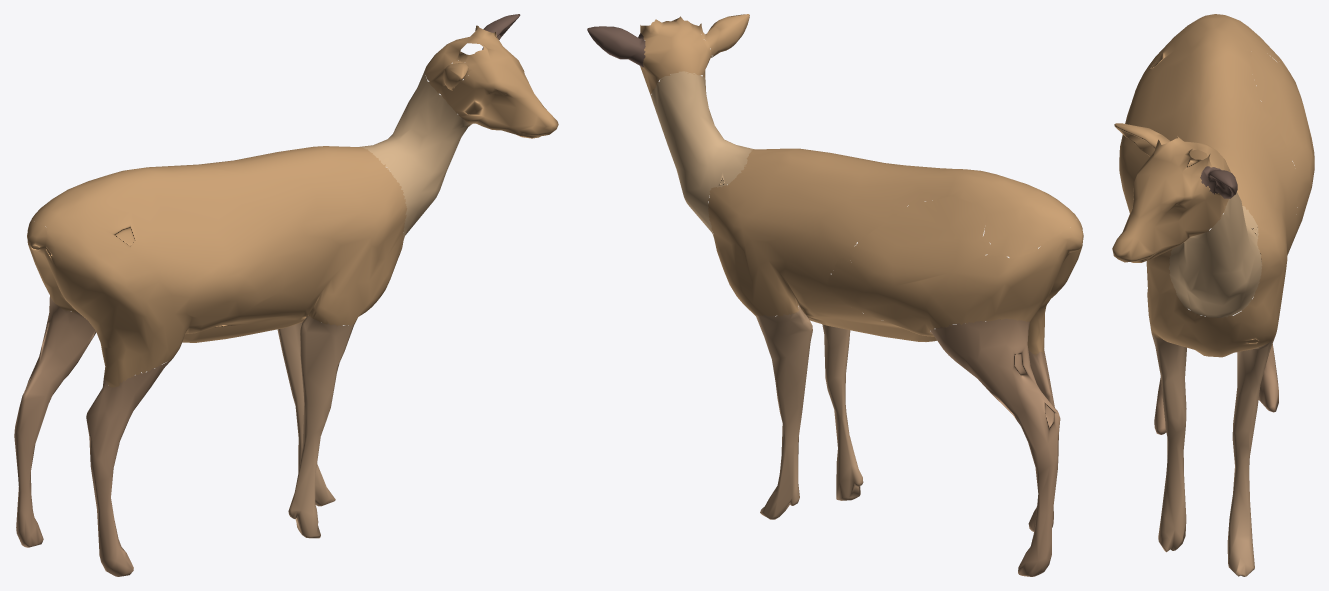
Rendered from doe.glb.
The picture shows the model from 3 angles, left to right: view 1: azimuth 30°, elevation 25°; view 2: azimuth 150°, elevation 25°; view 3: azimuth 270°, elevation 25°; orthographic projection. The views are drawn at different scales.
Visible parts, largest first — view 1: part10, part6, part4, part0, part1, part3, part5, part7; view 2: part10, part7, part0, part4, part5, part6, part1, part2, part9, part3; view 3: part10, part6, part4, part5, part1, part7, part0, part9, part2, part3.
Part boxes in pixels (bbox=[...]): part10: bbox=[31, 146, 407, 387]; part6: bbox=[425, 25, 558, 138]; part4: bbox=[360, 68, 472, 239]; part0: bbox=[14, 296, 96, 547]; part1: bbox=[288, 316, 355, 538]; part3: bbox=[86, 359, 171, 576]; part5: bbox=[277, 322, 335, 506]; part7: bbox=[27, 219, 77, 312]; part10: bbox=[708, 148, 1083, 355]; part7: bbox=[826, 195, 1083, 333]; part0: bbox=[930, 318, 1060, 576]; part4: bbox=[650, 71, 753, 236]; part5: bbox=[756, 304, 812, 519]; part6: bbox=[640, 16, 712, 96]; part1: bbox=[822, 324, 863, 500]; part2: bbox=[587, 26, 645, 67]; part9: bbox=[700, 14, 749, 57]; part3: bbox=[1028, 350, 1054, 531]; part10: bbox=[1119, 14, 1301, 357]; part6: bbox=[1112, 136, 1230, 262]; part4: bbox=[1168, 192, 1262, 317]; part5: bbox=[1227, 336, 1275, 576]; part1: bbox=[1152, 335, 1186, 552]; part7: bbox=[1249, 45, 1314, 235]; part0: bbox=[1254, 227, 1278, 412]; part9: bbox=[1114, 123, 1170, 156]; part2: bbox=[1200, 166, 1237, 198]; part3: bbox=[1154, 291, 1175, 434].
Bounding box in the file's own units: 0.8995 × 0.7883 × 0.2889.
